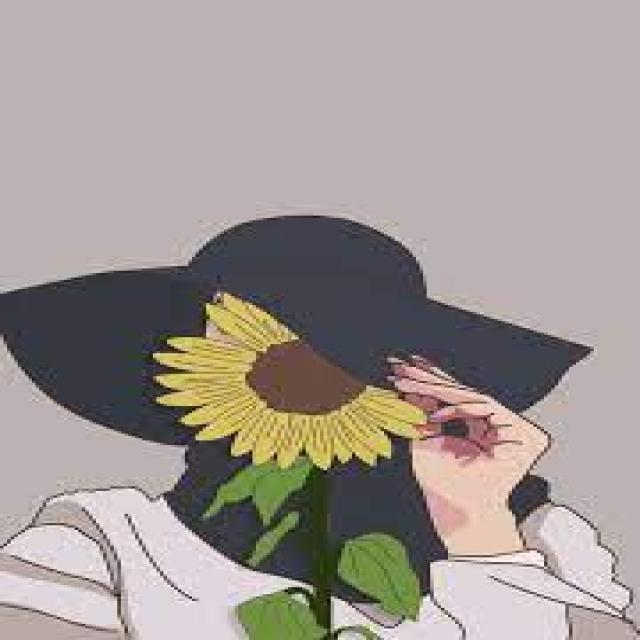sunflower: (149, 289, 427, 470)
